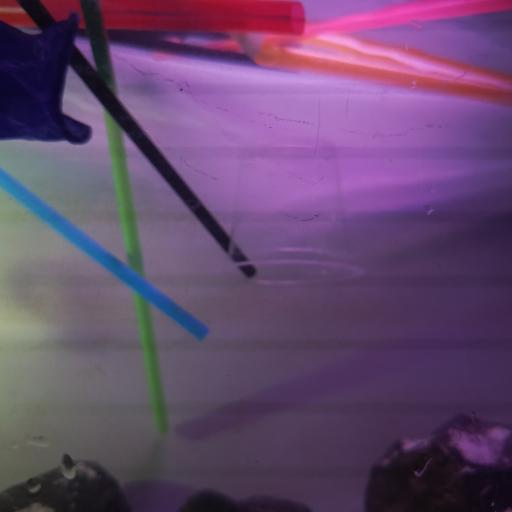glove: (0, 14, 92, 148)
plastic_cup: (215, 134, 366, 289)
plastic_straw: (18, 0, 259, 283), (82, 0, 169, 436), (0, 166, 210, 346), (254, 42, 512, 106), (0, 0, 307, 40), (303, 0, 512, 38), (108, 31, 255, 69)
